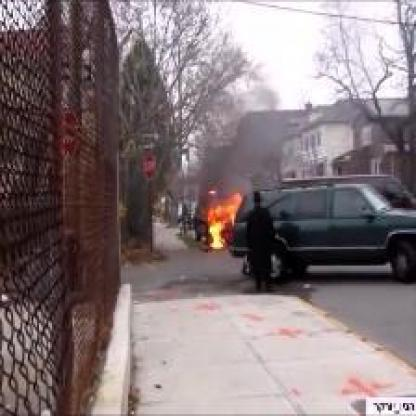fire: (192, 188, 245, 248)
smoke: (198, 88, 292, 188)
